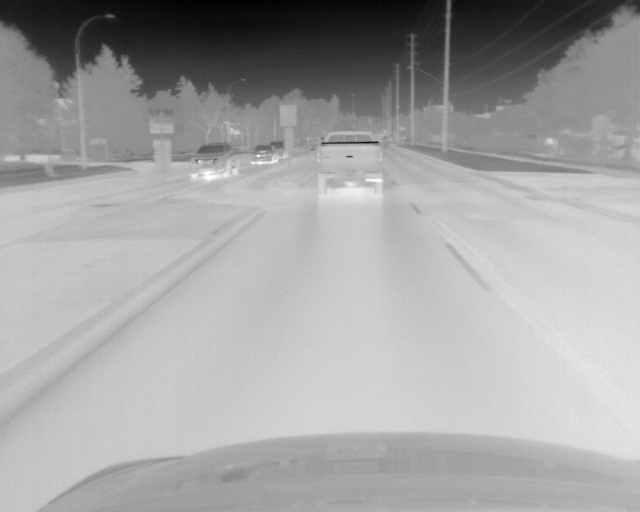car: (315, 130, 385, 195), (189, 141, 239, 179), (251, 144, 276, 164), (271, 140, 285, 158)
